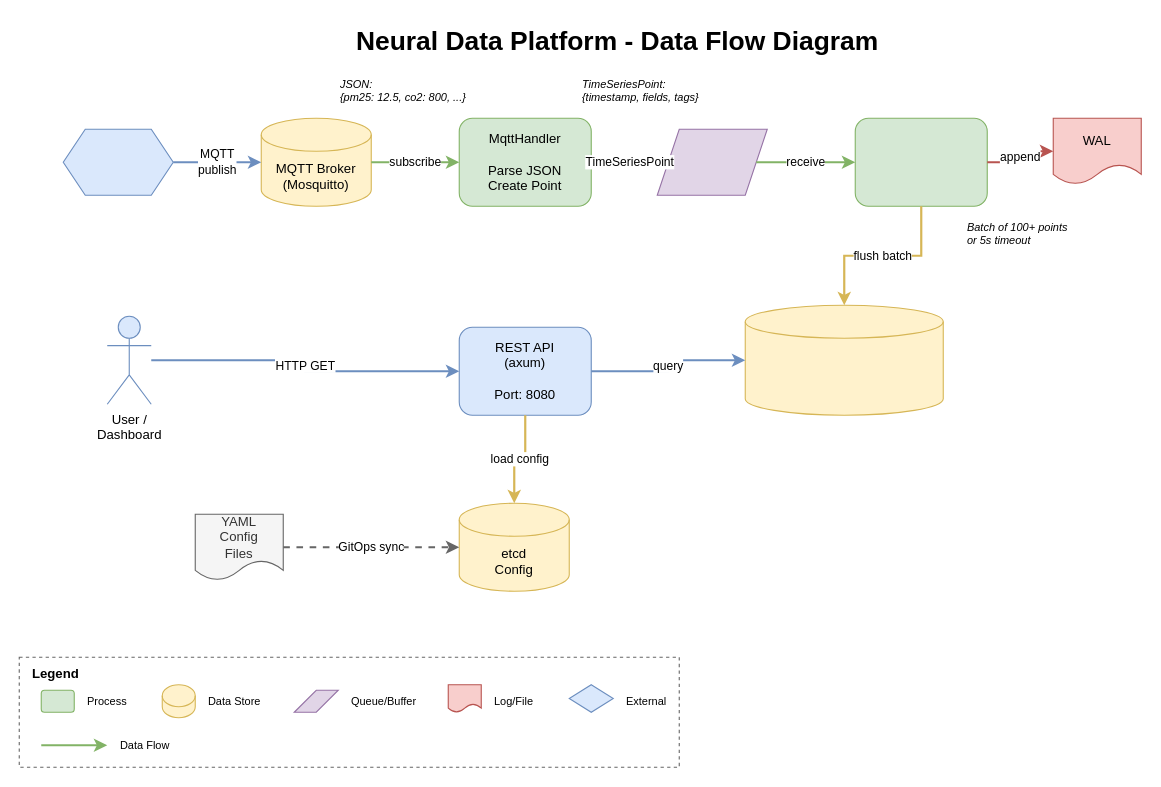
Image size: 1161x787. Some labels were removed from this diagram. Here are the shapes that lost their labels. From the top down, the centre of each, then its label:
At point (117, 161): "AirGradient Sensor".
At point (711, 161): "mpsc Channel (1000)".
At point (920, 161): "StorageWriter Batch: 100 Timeout: 5s".
At point (843, 359): "Parquet Files /data/YYYY-MM-DD_HH.parquet".
